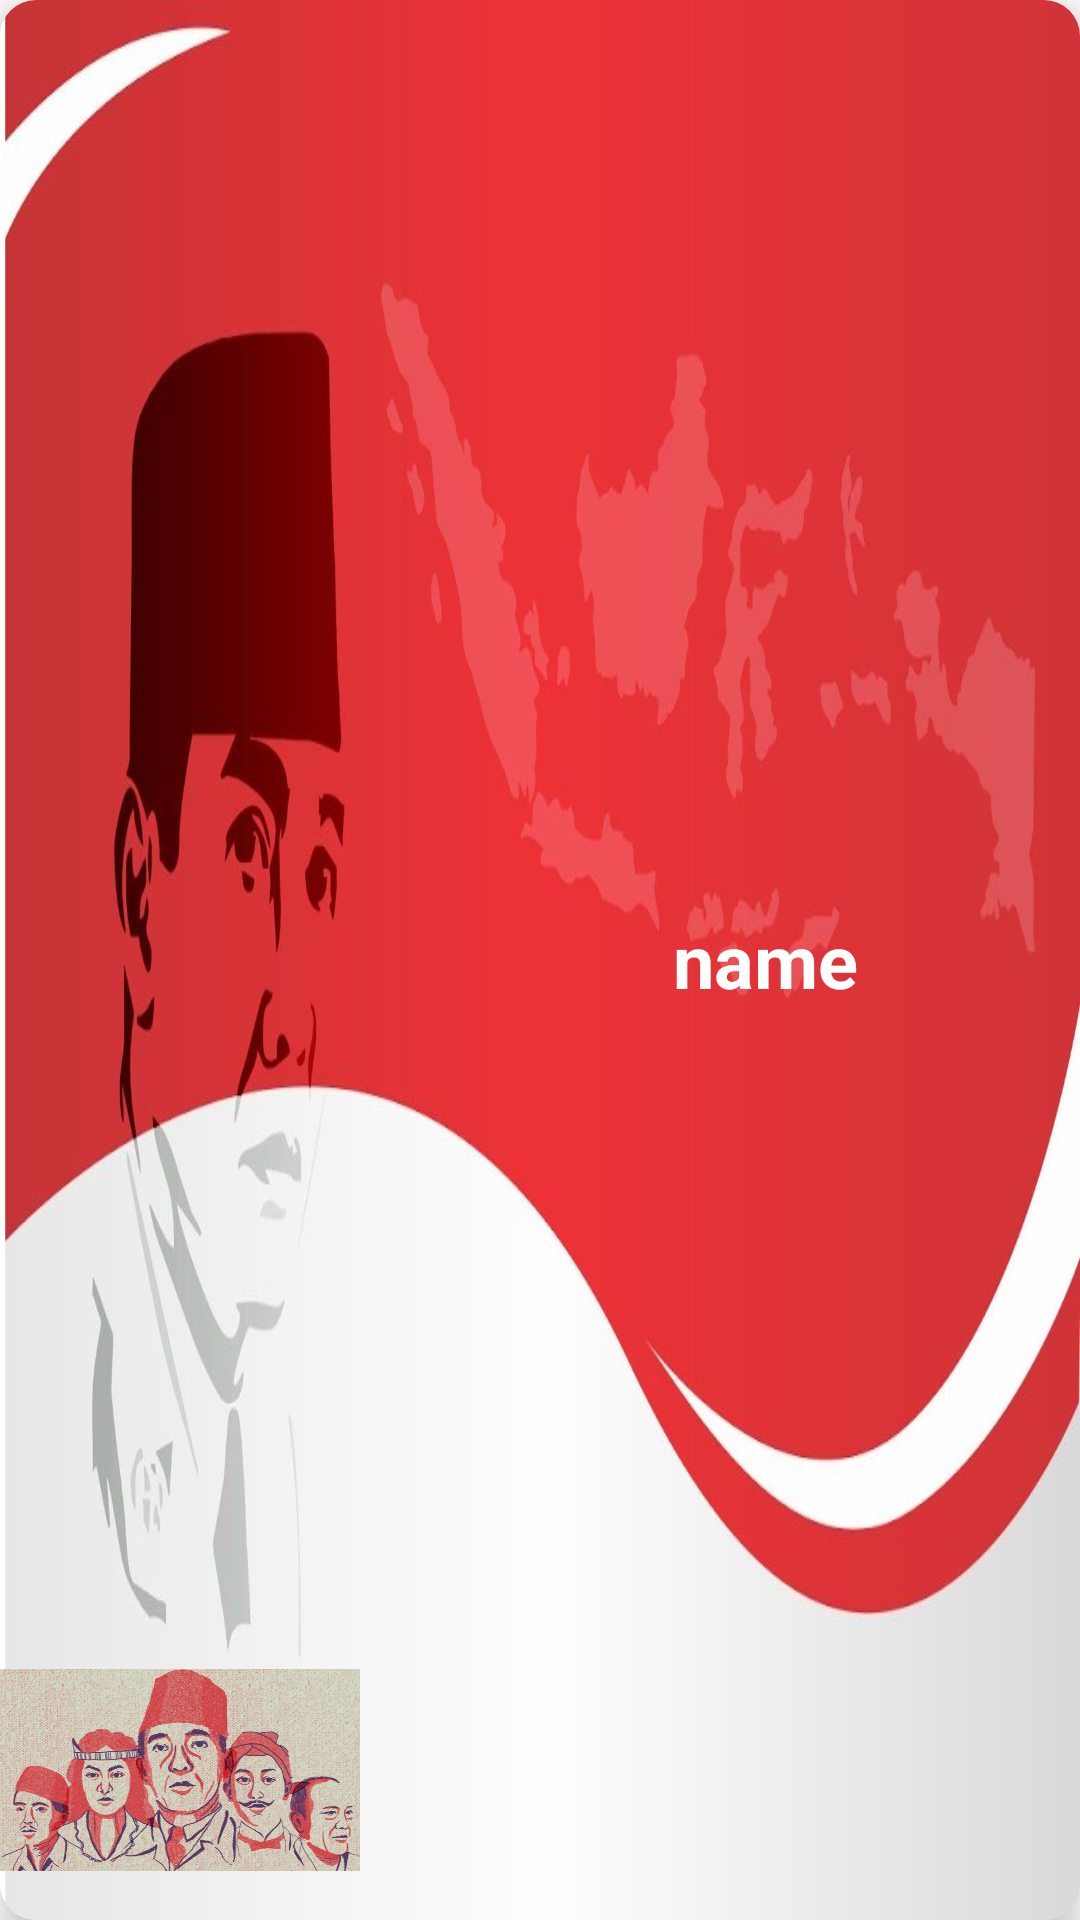

Named icons in this screenshot (1080 × 1920) and their centers, [x,y]:
fotopahlawan: [180,1794]
